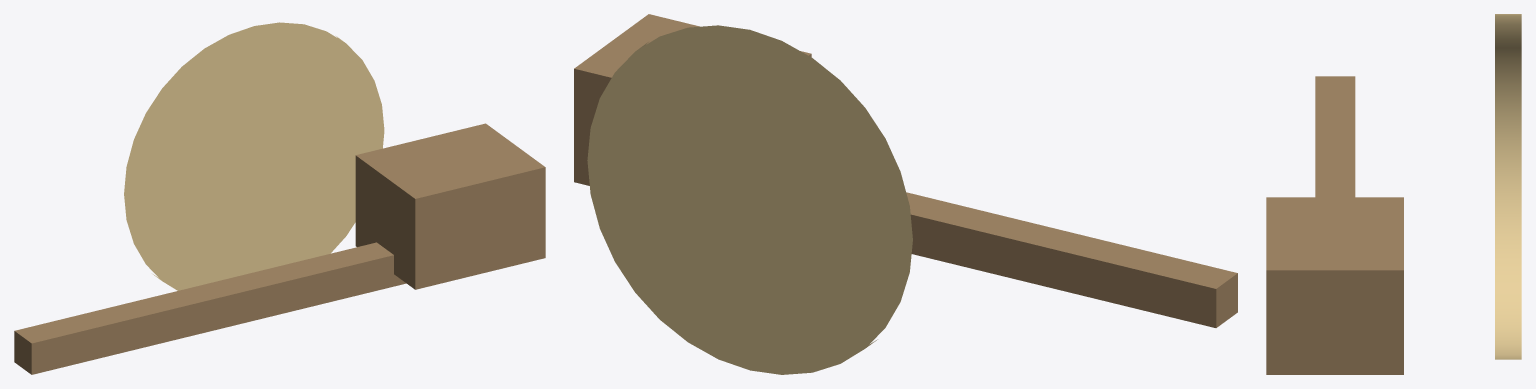
Rendered from mithaq-placeholder-light.glb.
3 views of the same model, side by side, from view 1: azimuth 30°, elevation 25°; view 2: azimuth 150°, elevation 25°; view 3: azimuth 270°, elevation 25° (orthographic). The views are drawn at different scales.
Visible parts, largest first — view 1: mithaq_placeholder_light; view 2: mithaq_placeholder_light; view 3: mithaq_placeholder_light.
Boxes of the visible parts, <box> form: mithaq_placeholder_light: <box>14,22,545,374</box>; mithaq_placeholder_light: <box>574,14,1237,374</box>; mithaq_placeholder_light: <box>1266,14,1521,374</box>.
Bounding box in the file's own units: 2.95 × 1.56 × 1.15.
